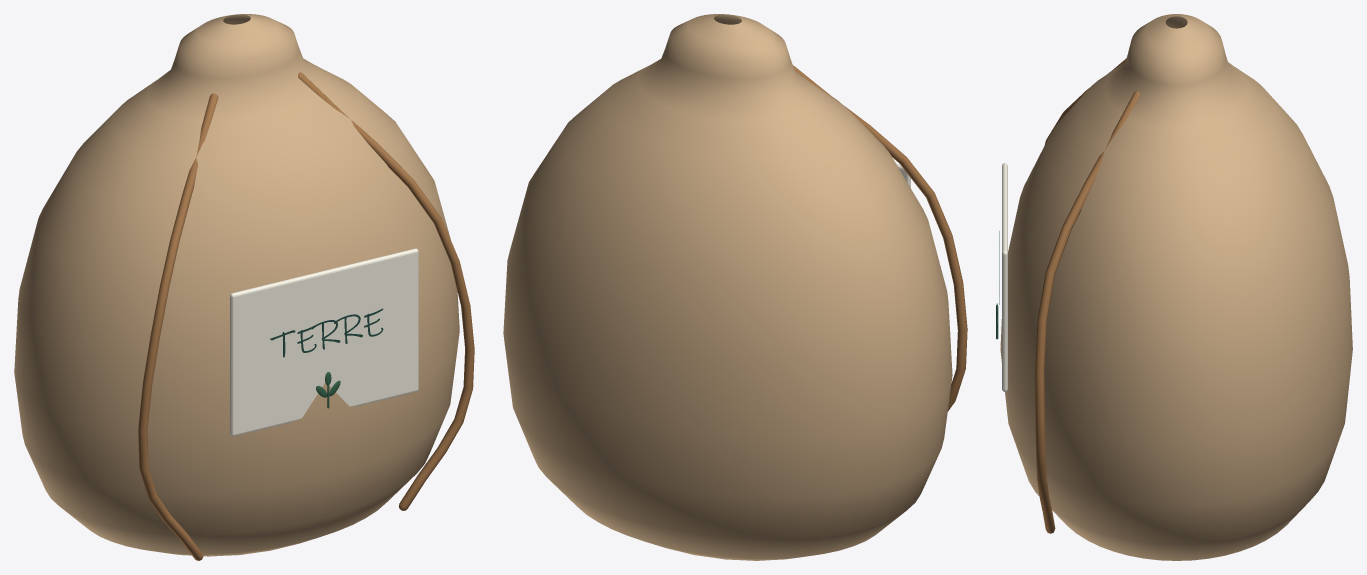
The model's file is soil_bag.glb.
3 views of the same model, side by side, from view 1: azimuth 30°, elevation 25°; view 2: azimuth 150°, elevation 25°; view 3: azimuth 270°, elevation 25° (orthographic). The views are drawn at different scales.
Visible parts, largest first — view 1: Soft_fabric_body, Cream_label, Fabric_fold, Fabric_fold.001, Flat_label; view 2: Soft_fabric_body, Fabric_fold; view 3: Soft_fabric_body, Fabric_fold.001, Cream_label.
Boxes of the visible parts, x1=… form: Soft_fabric_body: x1=14, y1=14, x2=459, y2=556; Cream_label: x1=230, y1=248, x2=418, y2=436; Fabric_fold: x1=138, y1=93, x2=218, y2=560; Fabric_fold.001: x1=298, y1=72, x2=474, y2=510; Flat_label: x1=270, y1=308, x2=383, y2=357; Soft_fabric_body: x1=503, y1=14, x2=952, y2=560; Fabric_fold: x1=793, y1=65, x2=967, y2=411; Soft_fabric_body: x1=1000, y1=14, x2=1352, y2=560; Fabric_fold.001: x1=1034, y1=91, x2=1139, y2=533; Cream_label: x1=1002, y1=163, x2=1007, y2=391.
Size of the model in its own units: 0.4778 by 0.56 by 0.3677.
